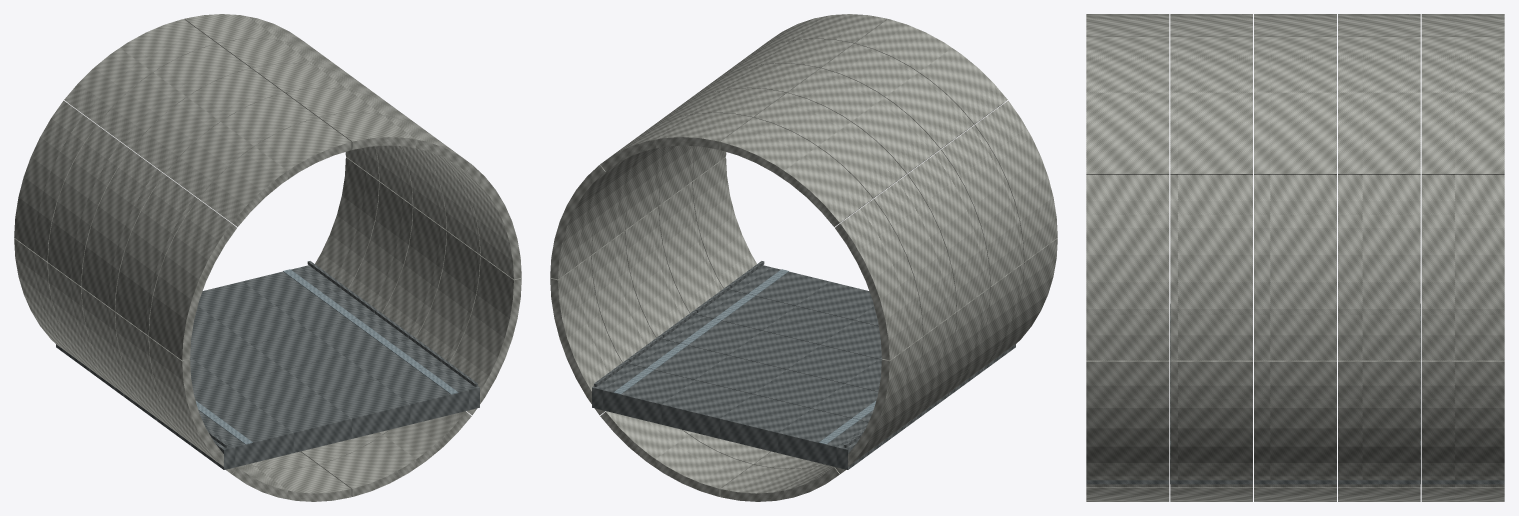
The model's file is PZ_Metro_10m_Concrete_Lining_And_Invert.glb.
The picture shows the model from 3 angles, left to right: view 1: azimuth 30°, elevation 25°; view 2: azimuth 150°, elevation 25°; view 3: azimuth 270°, elevation 25°; orthographic projection. The views are drawn at different scales.
Visible parts, largest first — view 1: INVERT_Slab_01, INVERT_Slab_02, LINING_R01_Wedge04, LINING_R01_Wedge03, INVERT_Slab_03, LINING_R03_Wedge04, LINING_R02_Wedge04, LINING_R04_Wedge04, LINING_R05_Wedge04, LINING_R03_Wedge03, LINING_R02_Wedge03, LINING_R05_Wedge03 (+27 smaller); view 2: INVERT_Slab_05, INVERT_Slab_04, LINING_R05_Wedge04, LINING_R05_Wedge03, INVERT_Slab_03, LINING_R03_Wedge04, LINING_R04_Wedge04, LINING_R01_Wedge04, LINING_R02_Wedge04, LINING_R03_Wedge03, LINING_R01_Wedge03, LINING_R04_Wedge03 (+27 smaller); view 3: LINING_R01_Wedge01, LINING_R05_Wedge01, LINING_R02_Wedge01, LINING_R03_Wedge01, LINING_R04_Wedge01, LINING_R01_Wedge02, LINING_R05_Wedge02, LINING_R02_Wedge02, LINING_R03_Wedge02, LINING_R04_Wedge02, LINING_R01_Wedge08, LINING_R05_Wedge08 (+15 smaller).
Boxes of the visible parts, x1,y1,x2,y2 form: INVERT_Slab_01: [190, 364, 479, 469]; INVERT_Slab_02: [157, 339, 443, 445]; LINING_R01_Wedge04: [149, 199, 236, 360]; LINING_R01_Wedge03: [199, 117, 351, 226]; INVERT_Slab_03: [123, 314, 409, 420]; LINING_R03_Wedge04: [81, 150, 164, 310]; LINING_R02_Wedge04: [115, 174, 197, 335]; LINING_R04_Wedge04: [48, 125, 130, 286]; LINING_R05_Wedge04: [14, 100, 96, 261]; LINING_R03_Wedge03: [132, 68, 284, 176]; LINING_R02_Wedge03: [165, 93, 317, 201]; LINING_R05_Wedge03: [64, 19, 216, 126]; INVERT_Slab_05: [592, 364, 881, 469]; INVERT_Slab_04: [628, 339, 914, 445]; LINING_R05_Wedge04: [835, 199, 922, 360]; LINING_R05_Wedge03: [720, 117, 872, 226]; INVERT_Slab_03: [662, 314, 948, 420]; LINING_R03_Wedge04: [907, 150, 990, 310]; LINING_R04_Wedge04: [874, 174, 956, 335]; LINING_R01_Wedge04: [975, 100, 1057, 261]; LINING_R02_Wedge04: [941, 125, 1023, 286]; LINING_R03_Wedge03: [787, 68, 939, 176]; LINING_R01_Wedge03: [855, 19, 1007, 126]; LINING_R04_Wedge03: [754, 93, 906, 201]; LINING_R01_Wedge01: [1086, 175, 1169, 360]; LINING_R05_Wedge01: [1421, 175, 1504, 360]; LINING_R02_Wedge01: [1170, 175, 1252, 360]; LINING_R03_Wedge01: [1254, 175, 1336, 360]; LINING_R04_Wedge01: [1338, 175, 1420, 360]; LINING_R01_Wedge02: [1086, 37, 1169, 174]; LINING_R05_Wedge02: [1421, 37, 1504, 174]; LINING_R02_Wedge02: [1170, 37, 1252, 174]; LINING_R03_Wedge02: [1254, 37, 1336, 174]; LINING_R04_Wedge02: [1338, 37, 1420, 174]; LINING_R01_Wedge08: [1086, 360, 1169, 486]; LINING_R05_Wedge08: [1421, 360, 1504, 486].
Bounding box in the file's own units: 11.64 × 11.64 × 9.98.
3 materials, 3 textured.
